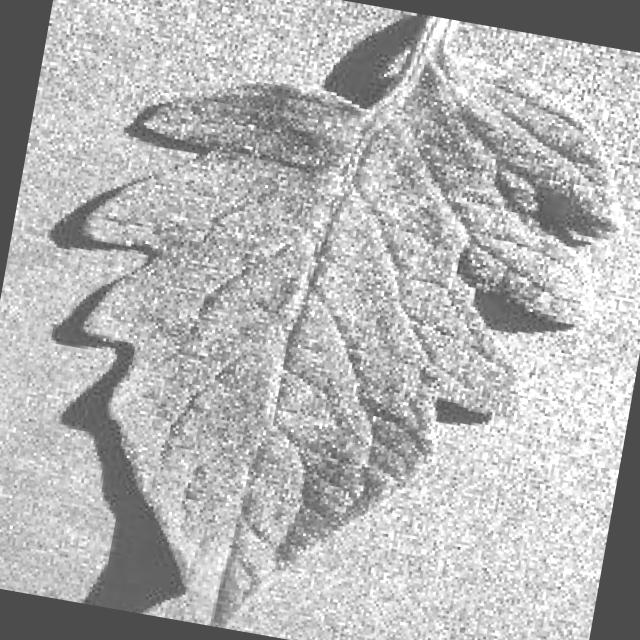healthy: (80, 15, 628, 628)
